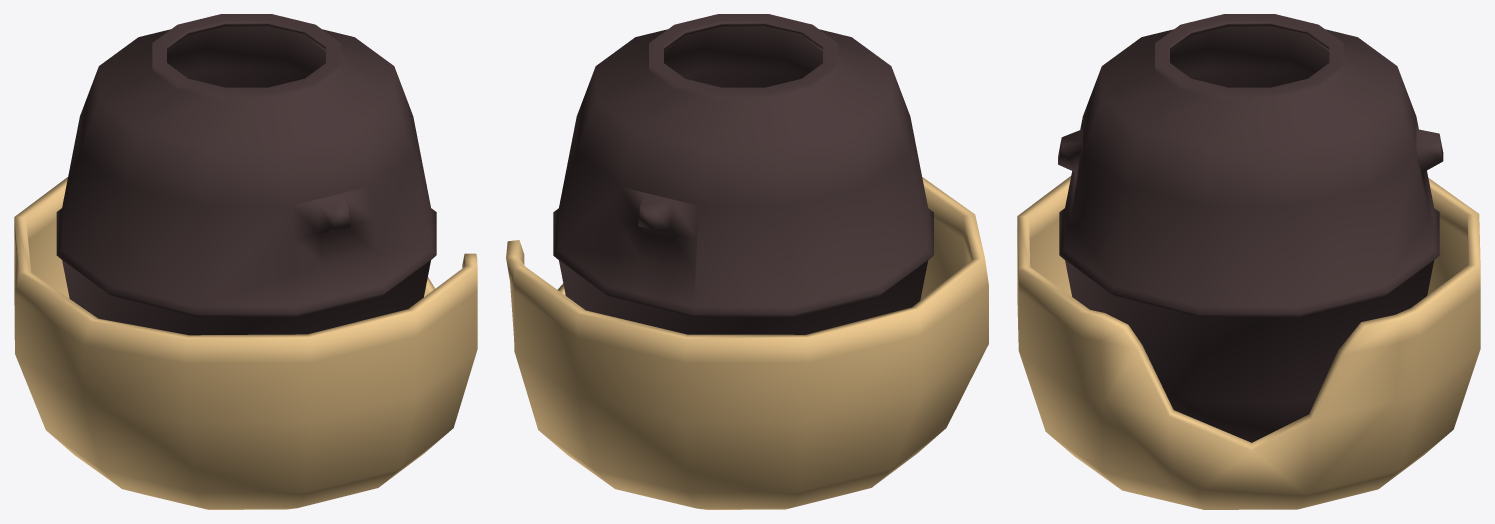
Rendered from kettle.fbx.
3 renders of one model, left to right at view 1: azimuth 30°, elevation 25°; view 2: azimuth 150°, elevation 25°; view 3: azimuth 270°, elevation 25°, orthographic.
Parts seen in each view (by area): view 1: Cylinder, Circle; view 2: Cylinder, Circle; view 3: Cylinder, Circle.
Boxes of the visible parts, box(x1,y1,x2,y2) form: Cylinder: box(56, 14, 436, 335); Circle: box(14, 177, 477, 509); Cylinder: box(553, 14, 933, 334); Circle: box(506, 177, 988, 509); Cylinder: box(1058, 14, 1443, 442); Circle: box(1017, 176, 1480, 509).
Bounding box in the file's own units: 46.75 × 43.66 × 46.47.
